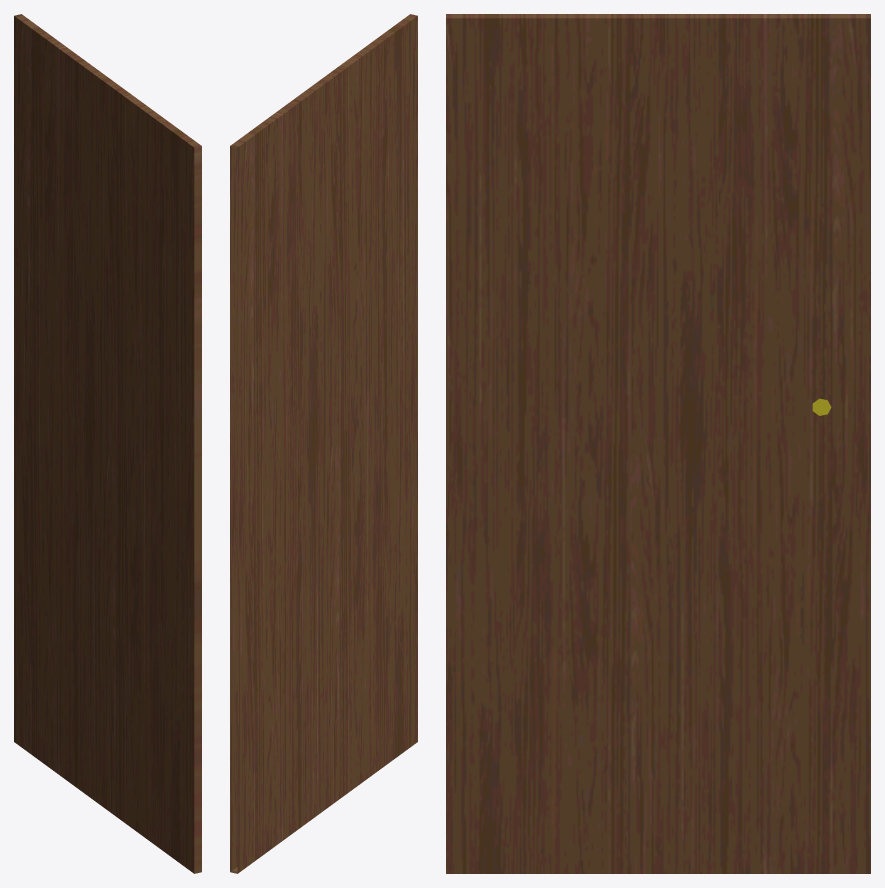
The model's file is left-door.glb.
3 views of the same model, side by side, from view 1: azimuth 30°, elevation 25°; view 2: azimuth 150°, elevation 25°; view 3: azimuth 270°, elevation 25° (orthographic). The views are drawn at different scales.
Visible parts, largest first — view 1: Left_door; view 2: Left_door; view 3: Left_door.
Boxes of the visible parts, x1=… form: Left_door: x1=14, y1=14, x2=201, y2=873; Left_door: x1=230, y1=14, x2=417, y2=873; Left_door: x1=446, y1=14, x2=870, y2=873.
Size of the model in its own units: 0.0486 by 1.92 by 0.8621.
2 materials, 1 textured.
